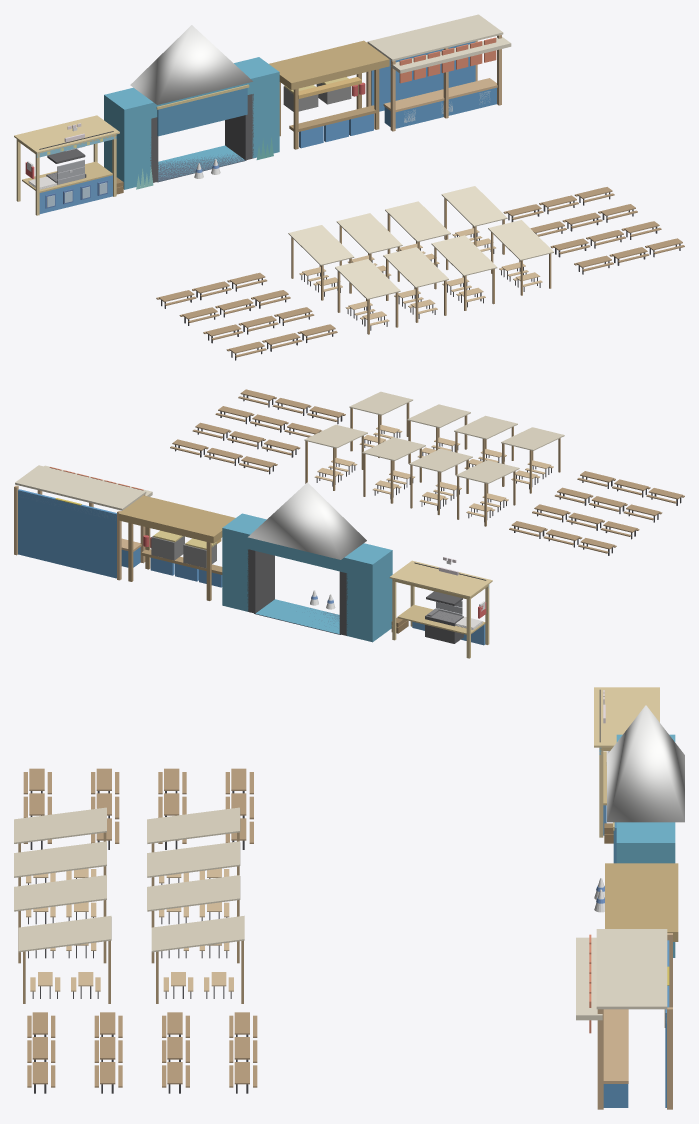
File: seomun_entrance.glb
3 renders of one model, top to bottom at view 1: azimuth 30°, elevation 25°; view 2: azimuth 150°, elevation 25°; view 3: azimuth 270°, elevation 25°, orthographic. The views are drawn at different scales.
Visible parts, largest first — view 1: Geom3D (×24); view 2: Geom3D (×20); view 3: Geom3D (×16).
Part boxes in pixels (<box>): Geom3D (×24): <box>14,14,553,299</box>; Geom3D (×20): <box>15,391,564,643</box>; Geom3D (×16): <box>14,687,684,1109</box>.
Bounding box in the file's own units: 38.77 × 11.03 × 33.6.
